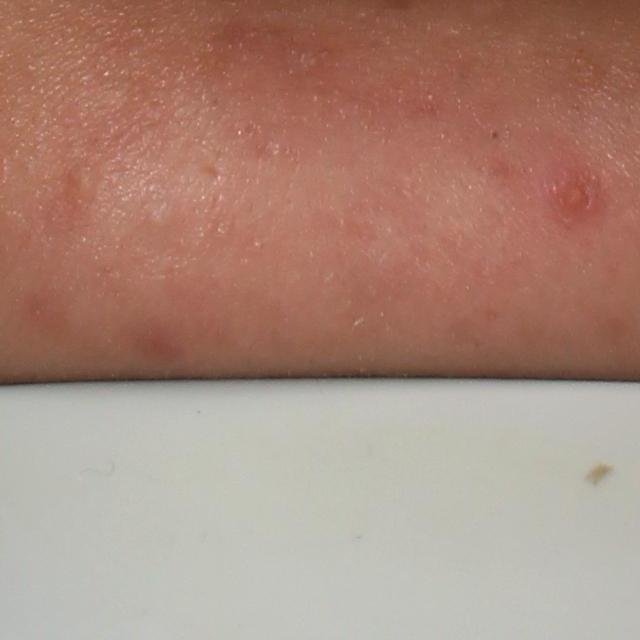comedo: (142, 208, 167, 232)
